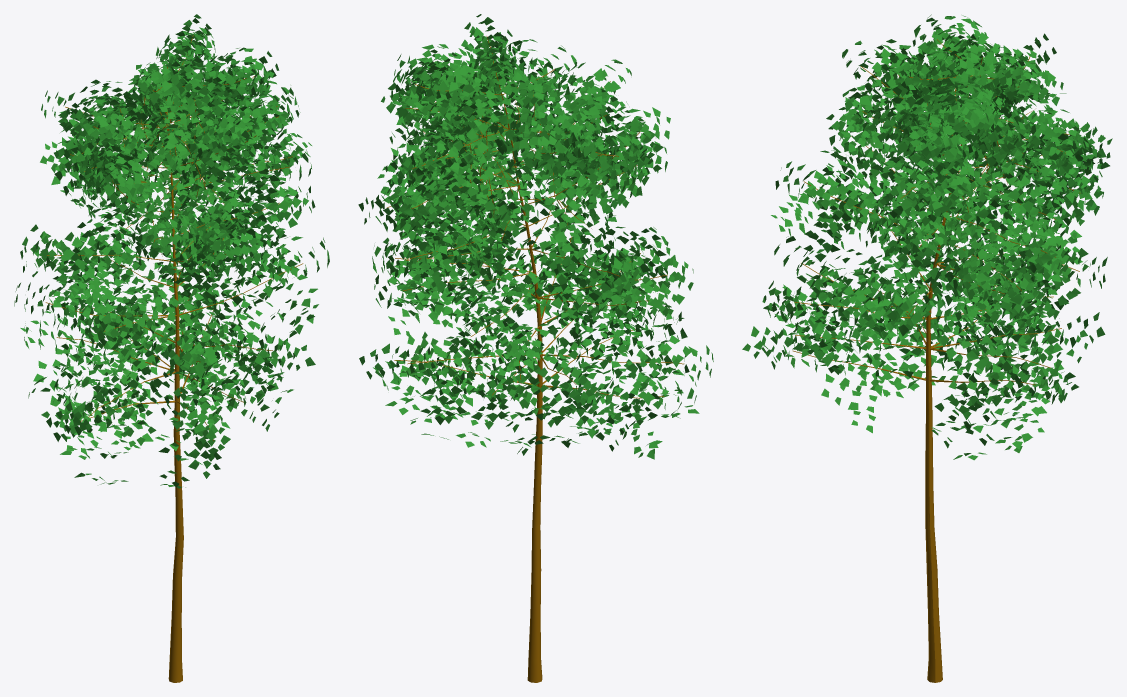
The model's file is aspen.obj.
3 renders of one model, left to right at view 1: azimuth 30°, elevation 25°; view 2: azimuth 150°, elevation 25°; view 3: azimuth 270°, elevation 25°, orthographic. The views are drawn at different scales.
Parts seen in each view (by area): view 1: QAP0022F, QAP0027F, QAP0028F, QAP0017F, QAP0035F, QAP0040F, QAP0003F, QAP0001B, QAP0025F, QAP0033F, QAP0012F, QAP0034F (+32 smaller); view 2: QAP0028F, QAP0022F, QAP0004F, QAP0014F, QAP0001B, QAP0033F, QAP0031F, QAP0018F, QAP0040F, QAP0044F, QAP0008F, QAP0045F (+32 smaller); view 3: QAP0027F, QAP0020F, QAP0035F, QAP0001B, QAP0003F, QAP0044F, QAP0026F, QAP0017F, QAP0038F, QAP0014F, QAP0023F, QAP0029F (+31 smaller).
Boxes of the visible parts, <box> form: QAP0022F: <box>78,149,203,279</box>; QAP0027F: <box>173,201,285,308</box>; QAP0028F: <box>20,205,143,306</box>; QAP0017F: <box>159,107,277,220</box>; QAP0035F: <box>164,293,315,408</box>; QAP0040F: <box>54,333,158,459</box>; QAP0003F: <box>161,57,268,117</box>; QAP0001B: <box>166,67,183,682</box>; QAP0025F: <box>169,166,315,276</box>; QAP0033F: <box>14,251,152,374</box>; QAP0012F: <box>68,93,187,188</box>; QAP0034F: <box>68,268,179,384</box>; QAP0028F: <box>533,209,650,321</box>; QAP0022F: <box>528,106,670,252</box>; QAP0004F: <box>391,61,504,126</box>; QAP0014F: <box>379,141,512,251</box>; QAP0001B: <box>497,76,542,682</box>; QAP0033F: <box>547,248,684,372</box>; QAP0031F: <box>449,248,544,366</box>; QAP0018F: <box>458,143,555,276</box>; QAP0040F: <box>568,298,713,432</box>; QAP0044F: <box>359,332,538,447</box>; QAP0008F: <box>385,82,499,202</box>; QAP0045F: <box>541,332,696,459</box>; QAP0027F: <box>771,150,915,253</box>; QAP0020F: <box>951,136,1084,251</box>; QAP0035F: <box>762,249,920,374</box>; QAP0001B: <box>925,57,982,682</box>; QAP0003F: <box>883,46,989,114</box>; QAP0044F: <box>931,330,1067,460</box>; QAP0026F: <box>938,226,1047,331</box>; QAP0017F: <box>839,85,964,208</box>; QAP0038F: <box>932,282,1078,430</box>; QAP0014F: <box>991,120,1103,222</box>; QAP0023F: <box>957,171,1081,299</box>; QAP0029F: <box>916,227,1050,335</box>.
Size of the model in its own units: 9.65 by 19.51 by 10.01.
